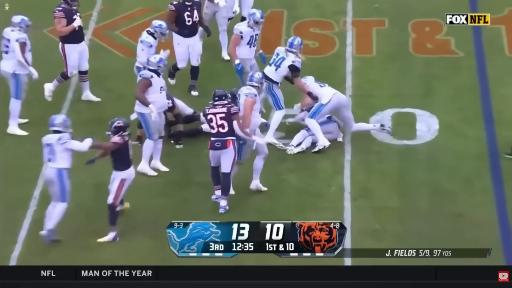Helmet: (107, 118, 130, 137), (49, 115, 72, 132), (147, 54, 167, 73), (150, 20, 169, 39), (11, 16, 31, 33), (247, 9, 264, 29), (286, 36, 302, 53), (247, 72, 263, 89), (212, 90, 229, 104), (229, 88, 239, 106), (63, 0, 79, 9), (302, 76, 315, 85), (184, 0, 193, 5)
Jersey: (2, 27, 32, 73), (264, 47, 301, 84), (203, 103, 238, 139), (138, 70, 167, 111), (169, 0, 201, 37), (42, 133, 73, 169), (303, 77, 345, 103), (238, 86, 261, 131), (234, 21, 260, 58), (136, 29, 158, 67), (110, 136, 132, 171), (54, 4, 80, 26), (167, 95, 175, 112)
Player: (202, 90, 262, 213), (40, 115, 92, 242), (86, 118, 135, 242), (44, 0, 101, 101), (263, 36, 314, 148), (0, 16, 38, 135), (167, 0, 211, 95), (135, 55, 169, 175), (301, 76, 355, 151), (229, 10, 263, 85), (203, 0, 239, 60), (232, 137, 268, 191), (135, 20, 169, 76), (164, 94, 199, 147), (167, 95, 200, 147), (287, 128, 318, 154), (183, 111, 210, 137), (352, 123, 390, 133), (240, 0, 253, 21), (504, 147, 511, 158)
